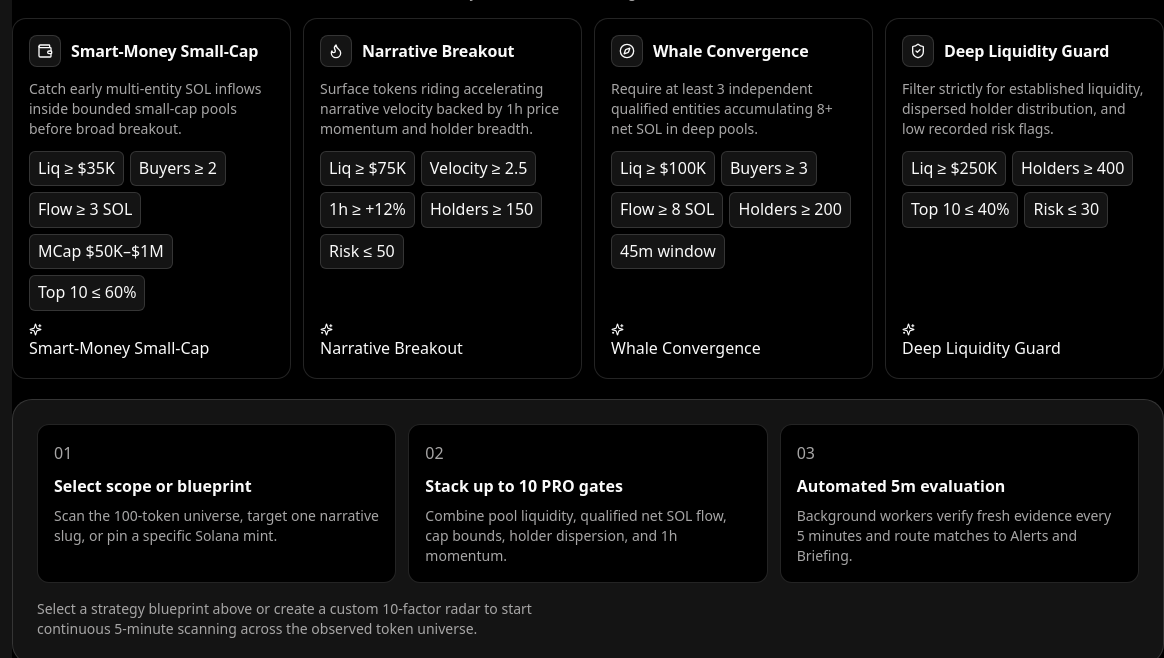
Scenario: renders upfront strategy blueprint cards and KPI strip on empty states and launches directly
(page scrolled)
Note: Clicking a blueprint card directly on the empty landing state opens the pre-filled 10-factor builder
Click the button "Whale Convergence" at coordinates (686, 342), box x1=611 y1=323 x2=761 y2=362
(page scrolled)
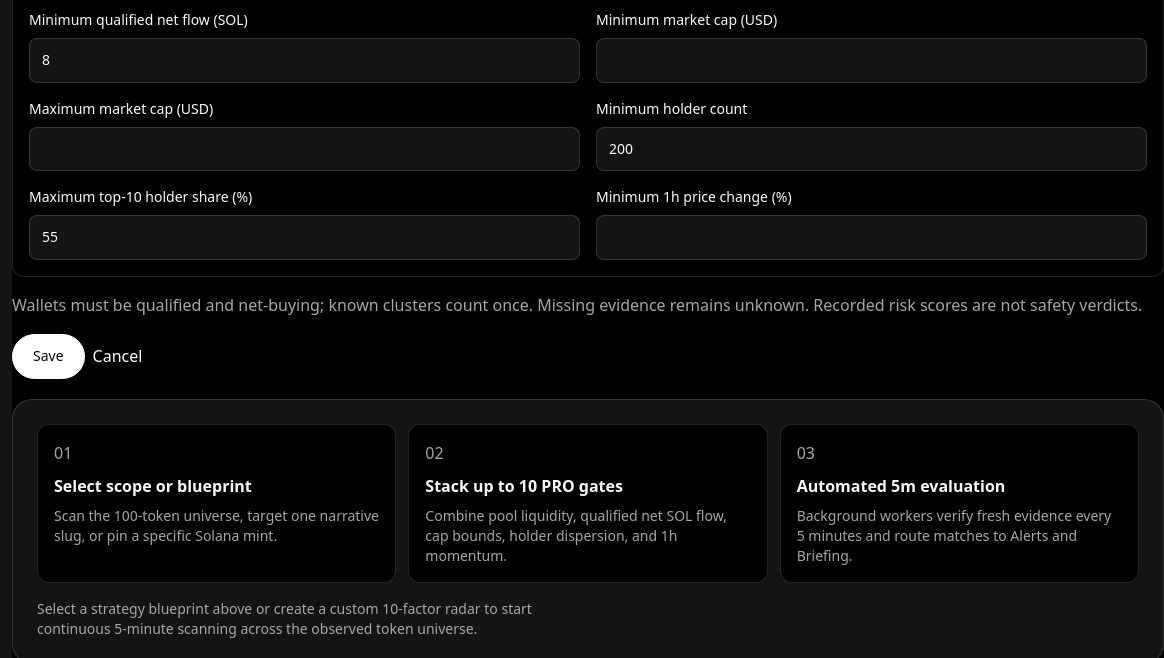
Expected: the number field labelled "Minimum qualified net flow (SOL)" holds "8", x1=29 y1=38 x2=580 y2=83
